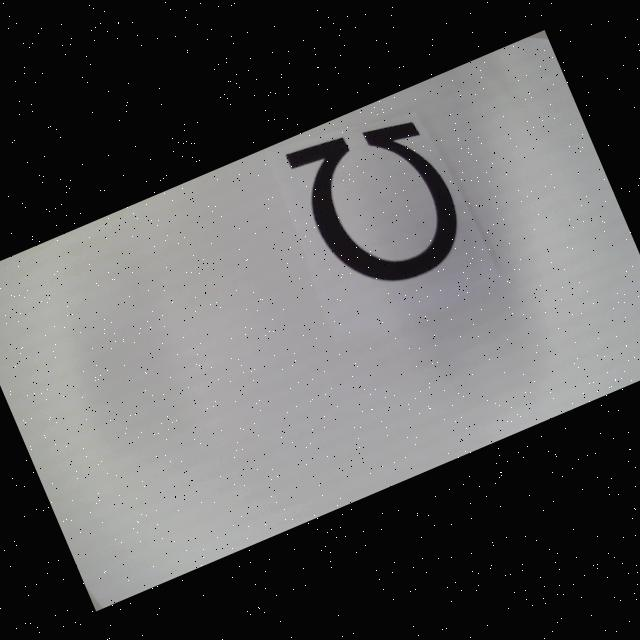OMEGA: (286, 101, 474, 304)
